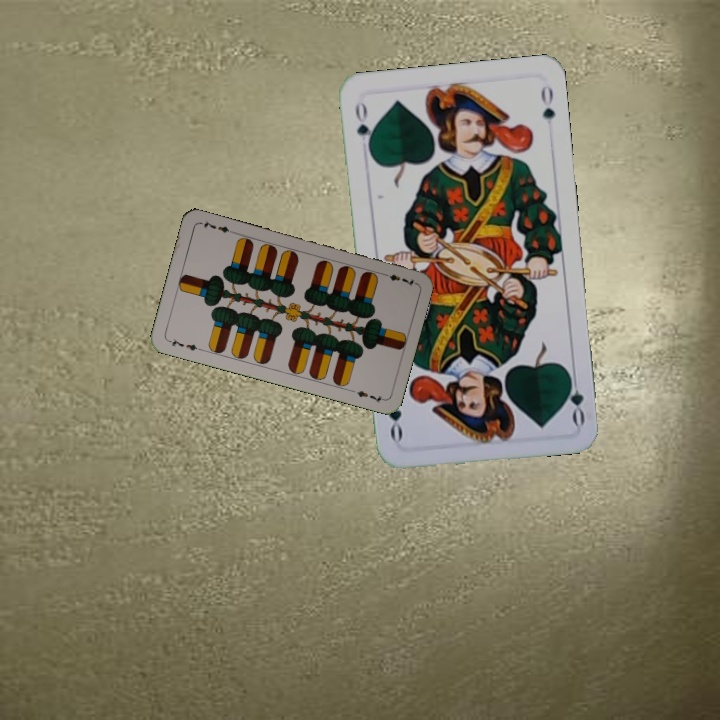E7: (378, 269, 418, 289), (164, 335, 204, 354)
GO: (561, 368, 587, 427), (351, 97, 376, 156)
